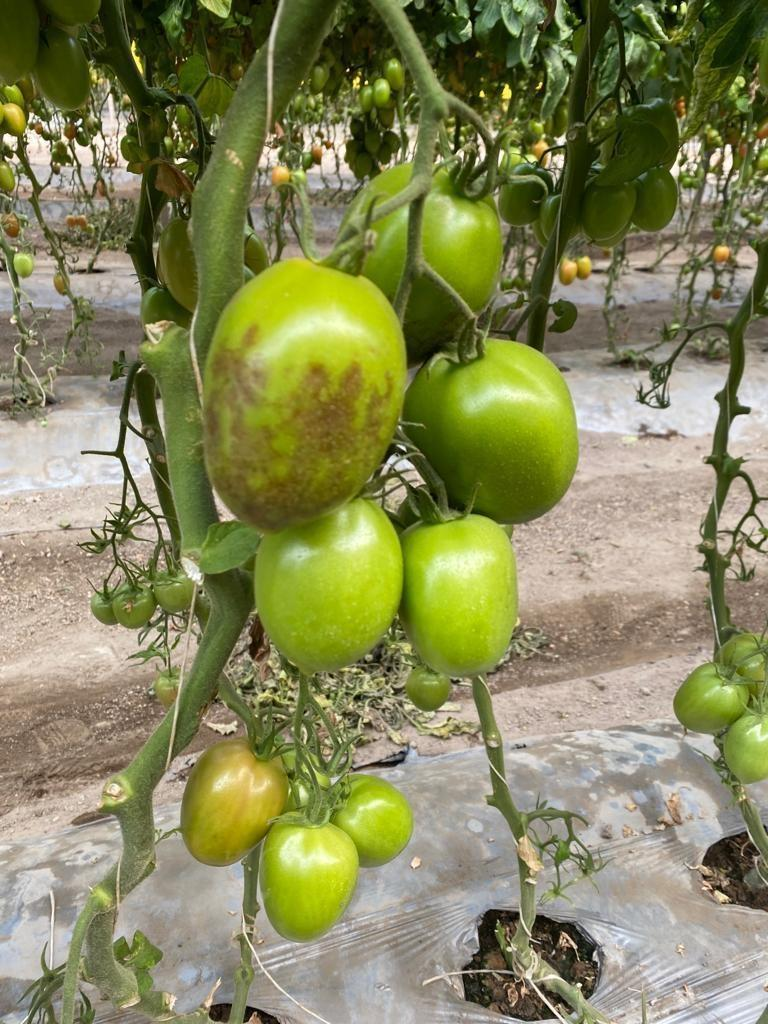Pedunculo rugoso: (82, 570, 252, 1006), (190, 0, 339, 366)
Tomate: (400, 336, 579, 530), (252, 499, 403, 675), (400, 515, 518, 679), (258, 815, 360, 943), (331, 776, 413, 870), (674, 662, 750, 734), (724, 714, 768, 784)
Tomate Rugoso: (200, 258, 411, 536), (341, 164, 502, 362), (180, 739, 289, 869)
